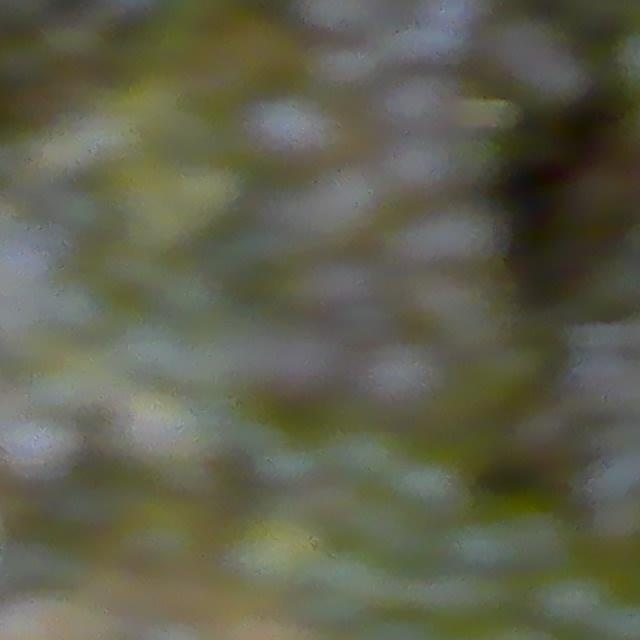SeaGrape: (289, 160, 383, 257), (247, 96, 345, 186), (384, 142, 477, 206), (371, 363, 470, 420), (382, 86, 461, 139), (301, 57, 386, 103), (292, 0, 376, 43)
